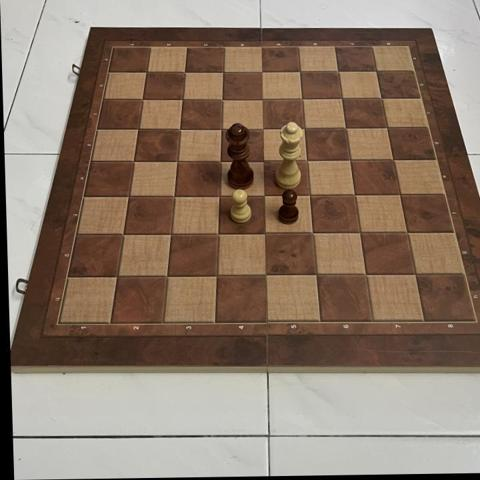xcorner: (291, 63, 309, 81), (137, 64, 155, 82), (293, 90, 311, 108), (253, 90, 271, 108), (133, 91, 151, 109), (337, 119, 355, 137), (295, 119, 313, 137), (170, 120, 188, 138), (298, 151, 316, 169), (124, 152, 142, 170), (346, 185, 364, 203), (255, 186, 273, 204), (351, 223, 369, 241), (256, 224, 274, 242), (113, 225, 131, 243), (357, 265, 375, 283), (207, 266, 225, 284), (157, 266, 175, 284), (329, 63, 347, 80), (253, 63, 270, 81), (214, 64, 232, 81), (373, 90, 391, 107), (333, 90, 351, 107), (213, 91, 231, 108), (173, 91, 191, 108), (212, 120, 230, 137), (129, 120, 146, 138), (341, 151, 359, 168), (255, 151, 272, 169), (211, 152, 229, 169), (392, 185, 409, 203), (210, 186, 227, 204), (164, 187, 182, 204), (399, 223, 416, 241), (209, 224, 226, 242), (407, 265, 425, 282), (307, 266, 325, 283), (257, 266, 275, 283), (107, 267, 125, 284), (368, 63, 385, 80), (176, 64, 193, 81), (379, 119, 396, 136), (254, 120, 271, 137), (385, 151, 402, 168), (168, 152, 185, 169), (301, 186, 318, 203), (119, 187, 136, 204), (304, 224, 321, 241), (161, 225, 178, 242)
